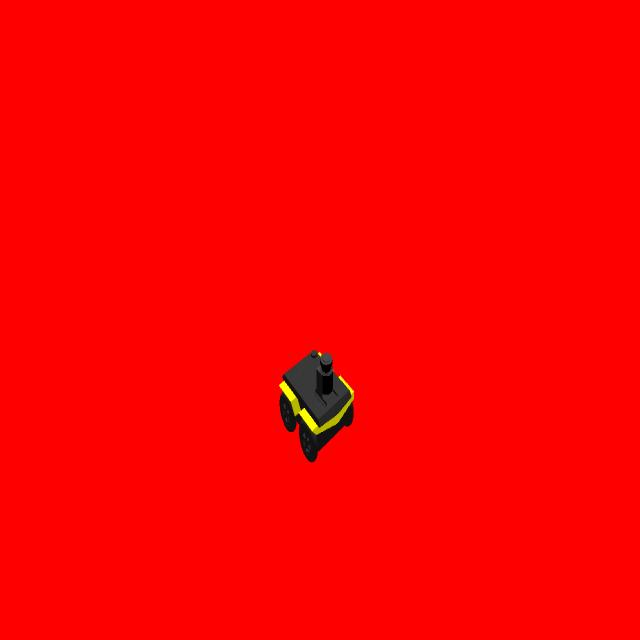jackal: (276, 343, 357, 471)
